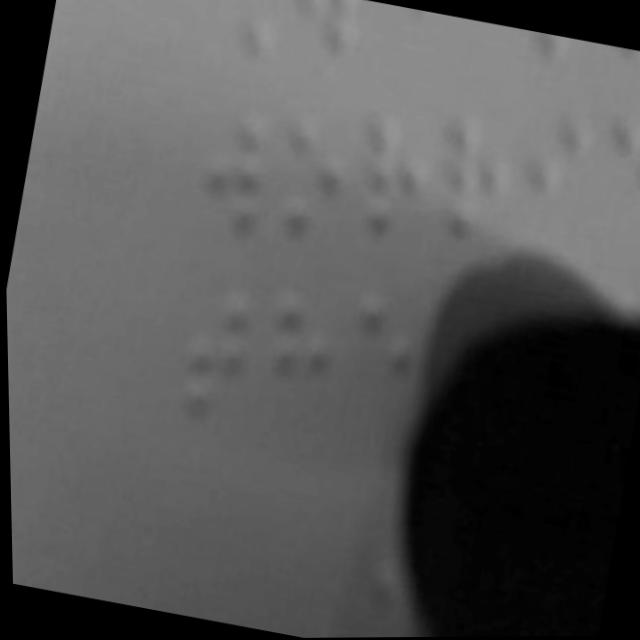braiile: (329, 277, 441, 448), (247, 276, 353, 449), (170, 264, 274, 437), (429, 98, 539, 260), (349, 98, 454, 260), (267, 104, 376, 260), (186, 94, 290, 257), (513, 103, 610, 258), (586, 109, 640, 275)
